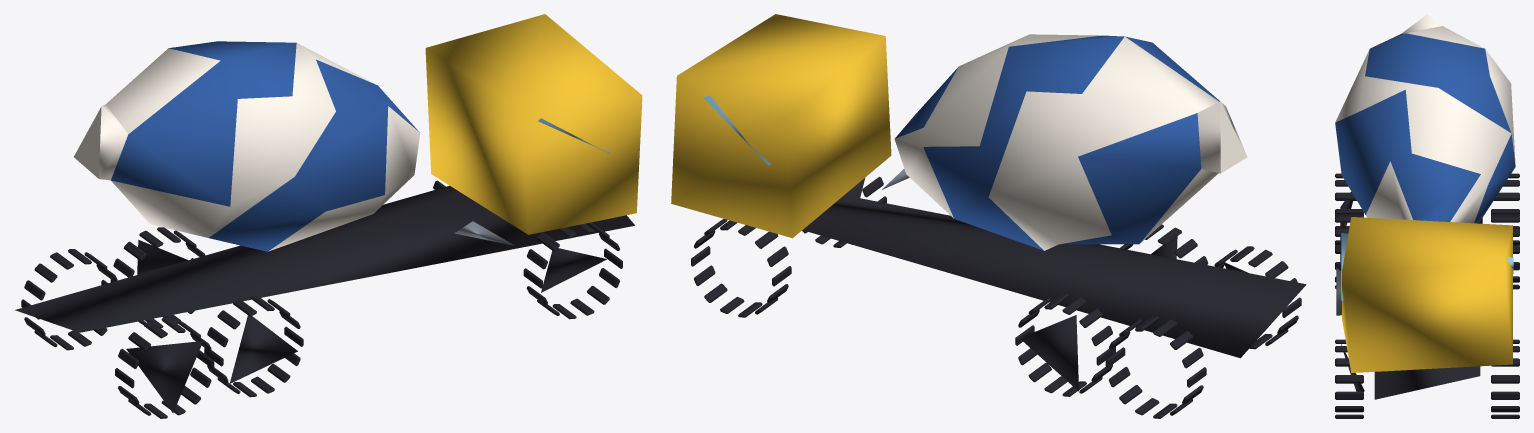
The model's file is cement_truck.glb.
3 renders of one model, left to right at view 1: azimuth 30°, elevation 25°; view 2: azimuth 150°, elevation 25°; view 3: azimuth 270°, elevation 25°, orthographic. The views are drawn at different scales.
Visible parts, largest first — view 1: cement_truck.008, drum.009; view 2: cement_truck.008, drum.009; view 3: cement_truck.008, drum.009.
Part boxes in pixels (x1=…): cement_truck.008: x1=15, y1=14, x2=642, y2=418; drum.009: x1=74, y1=41, x2=420, y2=251; cement_truck.008: x1=671, y1=14, x2=1306, y2=418; drum.009: x1=894, y1=34, x2=1247, y2=250; cement_truck.008: x1=1335, y1=173, x2=1519, y2=418; drum.009: x1=1335, y1=14, x2=1515, y2=223.
Bounding box in the file's own units: 7.48 × 3.9 × 2.59.
Materials: 1 (1 with a texture image).
